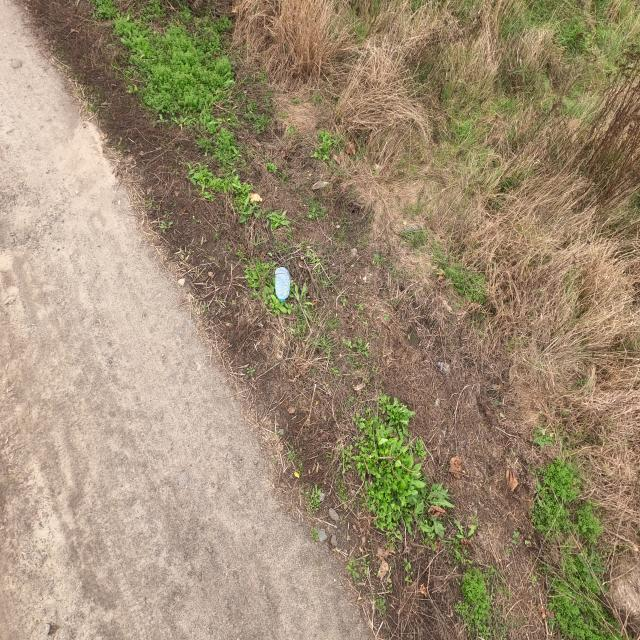rubbish: (274, 266, 291, 302), (437, 360, 452, 376)
